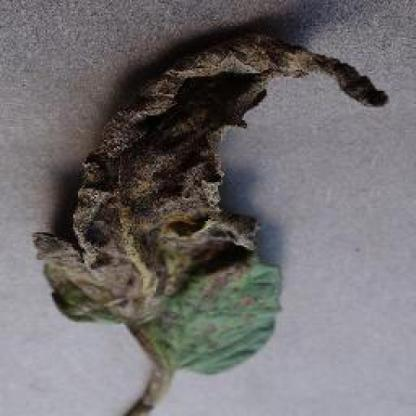Tomato_Blight: (29, 37, 389, 374)
